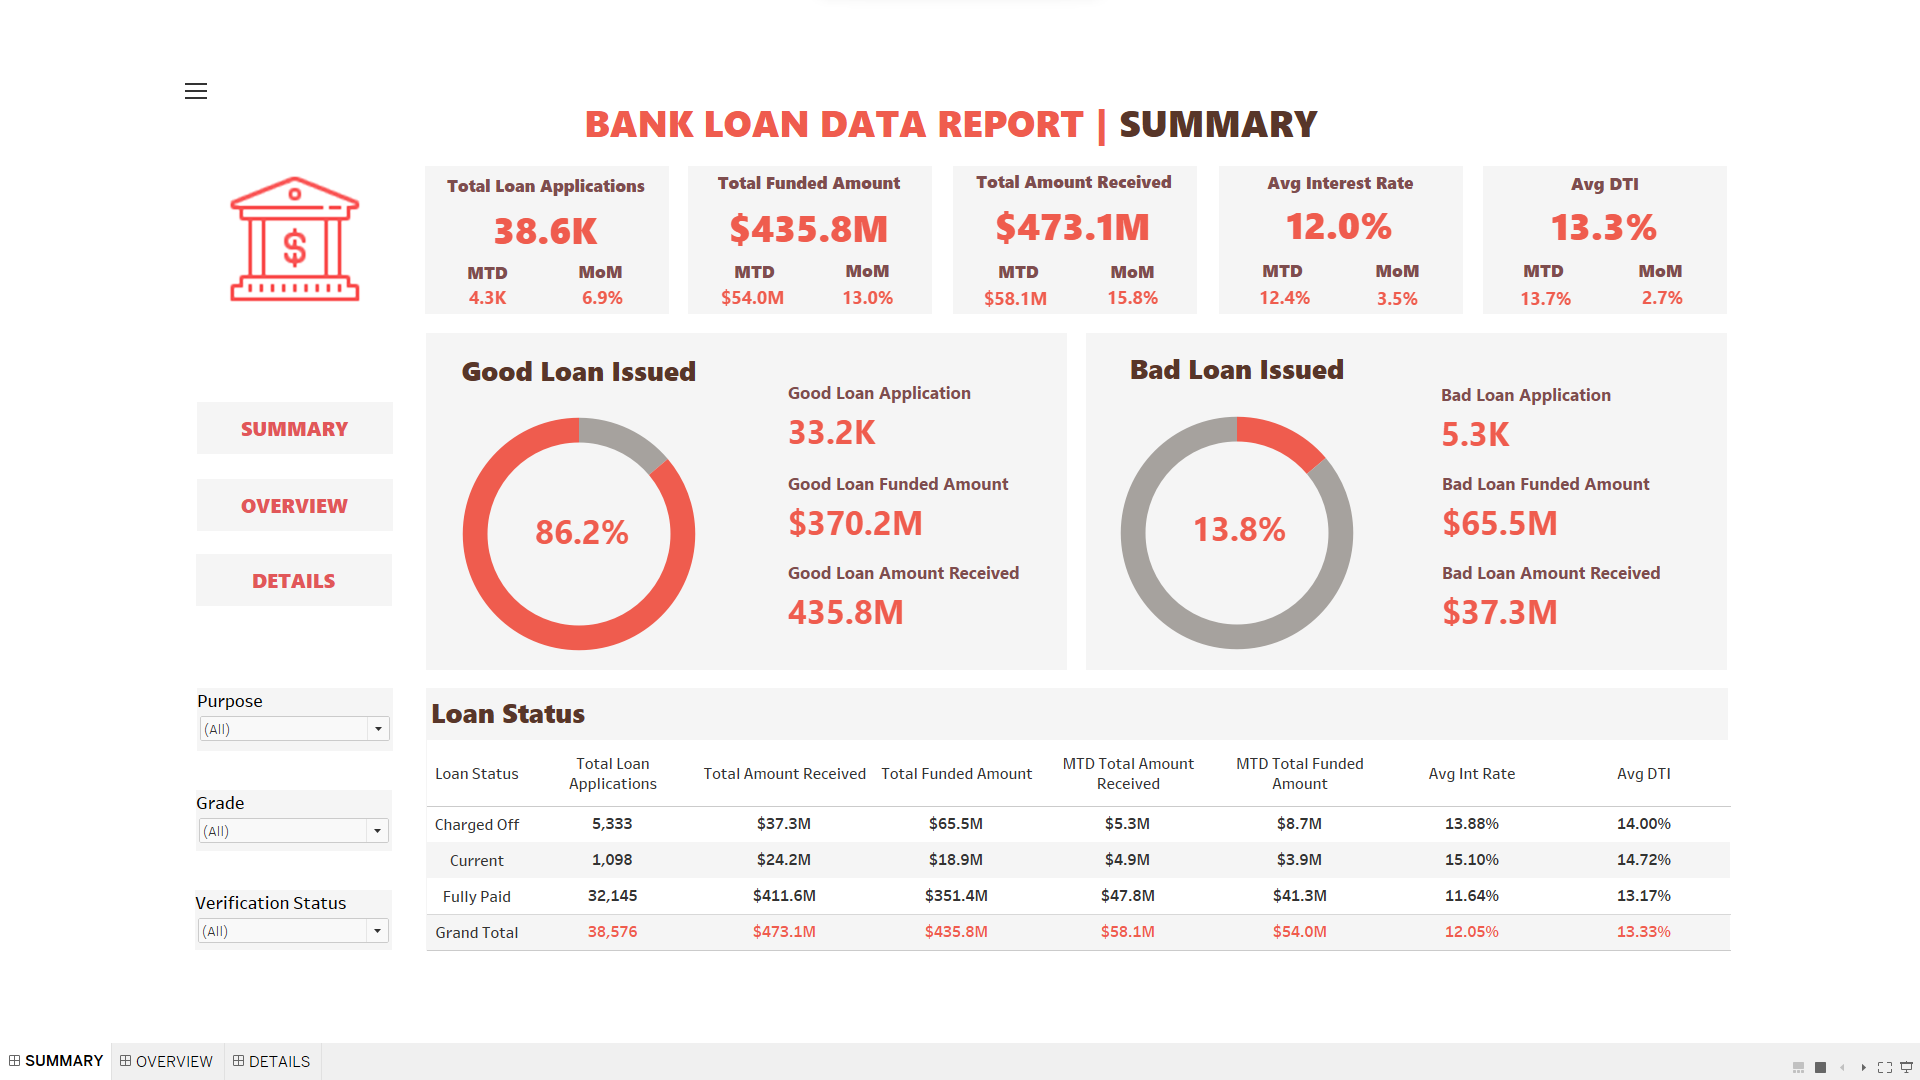

The page's visual inventory and layout, read from the dashboard file:
{"tool":"tableau","page":{"name":"SUMMARY","canvas":[1600,900],"ordinal":2},"visuals":[{"type":"dashboard-object","box":[0,8,24,24]},{"type":"dashboard-object","box":[24,8,24,24]},{"type":"text","box":[421,11,810,81]},{"type":"blank","box":[265,95,244,148]},{"type":"blank","box":[528,95,244,148]},{"type":"blank","box":[793,95,244,148]},{"type":"worksheet","title":"Total Amount Received","mark":"Automatic","box":[793,95,242,81]},{"type":"blank","box":[1059,95,244,148]},{"type":"blank","box":[1323,95,244,148]},{"type":"worksheet","title":"Total Funded Amount","mark":"Automatic","box":[527,96,244,83]},{"type":"worksheet","title":"Avg Interest Rate","mark":"Automatic","box":[1060,96,241,78]},{"type":"image","param":"C:/Users/Sylvi/Downloads/icons8bank-building.png","box":[64,97,143,145]},{"type":"worksheet","title":"Avg DTI","mark":"Automatic","box":[1325,97,240,77]},{"type":"worksheet","title":"Total Loan Applications","mark":"Automatic","box":[266,99,240,82]},{"type":"text","box":[675,184,65,30]},{"type":"text","box":[1090,184,65,30]},{"type":"text","box":[1205,184,65,30]},{"type":"text","box":[1351,184,65,30]},{"type":"text","box":[1468,184,65,30]},{"type":"text","box":[408,185,65,30]},{"type":"text","box":[562,185,65,30]},{"type":"text","box":[826,185,65,30]},{"type":"text","box":[940,185,65,30]},{"type":"text","box":[295,186,65,30]},{"type":"worksheet","title":"MoM Total Amount Received","mark":"Automatic","box":[924,205,98,42]},{"type":"worksheet","title":"MTD Avg DTI","mark":"Automatic","box":[1339,205,94,45]},{"type":"worksheet","title":"MTD Avg Int Rate","mark":"Automatic","box":[1084,208,83,37]},{"type":"worksheet","title":"MoM Avg DTI","mark":"Automatic","box":[1467,208,72,36]},{"type":"worksheet","title":"MoM Loan Applications","mark":"Automatic","box":[407,209,73,35]},{"type":"worksheet","title":"MoM Total Funded Amount","mark":"Automatic","box":[663,209,90,34]},{"type":"worksheet","title":"MoM Avg Int Rate","mark":"Automatic","box":[1195,209,86,37]},{"type":"worksheet","title":"MTD Total Amout Received","mark":"Automatic","box":[809,210,94,35]},{"type":"worksheet","title":"MTD Total Loan Applications","mark":"Automatic","box":[282,211,92,30]},{"type":"worksheet","title":"MTD Total Funded Amount","mark":"Automatic","box":[554,211,79,31]},{"type":"blank","box":[266,262,641,337]},{"type":"blank","box":[926,262,641,337]},{"type":"worksheet","title":"Bad Loan Issued","mark":"Pie","rows":["Calculation_1340102406594928662","Calculation_1340102406594928662"],"box":[927,275,300,323]},{"type":"worksheet","title":"Good Loan Issued","mark":"Pie","rows":["Calculation_1340102406594928662","Calculation_1340102406594928662"],"box":[269,277,300,321]},{"type":"worksheet","title":"Good Loan Application","mark":"Automatic","box":[620,302,250,77]},{"type":"worksheet","title":"Bad Loan Application","mark":"Automatic","box":[1273,304,250,77]},{"type":"dashboard-object","box":[37,331,196,52]},{"type":"worksheet","title":"Good Loan Funded Amount","mark":"Automatic","box":[620,393,250,77]},{"type":"worksheet","title":"Bad Loan Funded Amount","mark":"Automatic","box":[1274,393,250,77]},{"type":"dashboard-object","box":[37,408,196,52]},{"type":"worksheet","title":"Bad Loan Application %","mark":"Automatic","box":[1028,420,102,73]},{"type":"worksheet","title":"Good Loan Application %","mark":"Automatic","box":[354,431,137,57]},{"type":"worksheet","title":"Good Loan Amount Received","mark":"Automatic","box":[620,482,250,77]},{"type":"worksheet","title":"Bad Loan Amount Received","mark":"Automatic","box":[1274,482,250,77]},{"type":"dashboard-object","box":[36,483,196,52]},{"type":"filter","title":"Good Loan Issued","param":"[federated.0o8ds8i1wbf4nt19vdyb61pz2yw0].[none:purpose:nk]","box":[37,617,196,63]},{"type":"blank","box":[266,617,1302,263]},{"type":"worksheet","title":"Loan Status","mark":"Automatic","rows":["loan_status"],"box":[267,619,1304,261]},{"type":"filter","title":"Good Loan Issued","param":"[federated.0o8ds8i1wbf4nt19vdyb61pz2yw0].[none:grade:nk]","box":[36,719,196,61]},{"type":"filter","title":"Good Loan Issued","param":"[federated.0o8ds8i1wbf4nt19vdyb61pz2yw0].[none:verification_status:nk]","box":[35,819,197,60]}]}

Visuals, with their boxes on the page's 1600x900 design canvas (x1, y1, x2, y2). These are canvas units, not pixel positions in the 1920x1080 screenshot, which may show the page scaled, cropped or inside an application window:
dashboard-object: <bbox>0, 8, 24, 32</bbox>
dashboard-object: <bbox>24, 8, 48, 32</bbox>
text: <bbox>421, 11, 1231, 92</bbox>
blank: <bbox>265, 95, 509, 243</bbox>
blank: <bbox>528, 95, 772, 243</bbox>
blank: <bbox>793, 95, 1037, 243</bbox>
"Total Amount Received" worksheet: <bbox>793, 95, 1035, 176</bbox>
blank: <bbox>1059, 95, 1303, 243</bbox>
blank: <bbox>1323, 95, 1567, 243</bbox>
"Total Funded Amount" worksheet: <bbox>527, 96, 771, 179</bbox>
"Avg Interest Rate" worksheet: <bbox>1060, 96, 1301, 174</bbox>
image: <bbox>64, 97, 207, 242</bbox>
"Avg DTI" worksheet: <bbox>1325, 97, 1565, 174</bbox>
"Total Loan Applications" worksheet: <bbox>266, 99, 506, 181</bbox>
text: <bbox>675, 184, 740, 214</bbox>
text: <bbox>1090, 184, 1155, 214</bbox>
text: <bbox>1205, 184, 1270, 214</bbox>
text: <bbox>1351, 184, 1416, 214</bbox>
text: <bbox>1468, 184, 1533, 214</bbox>
text: <bbox>408, 185, 473, 215</bbox>
text: <bbox>562, 185, 627, 215</bbox>
text: <bbox>826, 185, 891, 215</bbox>
text: <bbox>940, 185, 1005, 215</bbox>
text: <bbox>295, 186, 360, 216</bbox>
"MoM Total Amount Received" worksheet: <bbox>924, 205, 1022, 247</bbox>
"MTD Avg DTI" worksheet: <bbox>1339, 205, 1433, 250</bbox>
"MTD Avg Int Rate" worksheet: <bbox>1084, 208, 1167, 245</bbox>
"MoM Avg DTI" worksheet: <bbox>1467, 208, 1539, 244</bbox>
"MoM Loan Applications" worksheet: <bbox>407, 209, 480, 244</bbox>
"MoM Total Funded Amount" worksheet: <bbox>663, 209, 753, 243</bbox>
"MoM Avg Int Rate" worksheet: <bbox>1195, 209, 1281, 246</bbox>
"MTD Total Amout Received" worksheet: <bbox>809, 210, 903, 245</bbox>
"MTD Total Loan Applications" worksheet: <bbox>282, 211, 374, 241</bbox>
"MTD Total Funded Amount" worksheet: <bbox>554, 211, 633, 242</bbox>
blank: <bbox>266, 262, 907, 599</bbox>
blank: <bbox>926, 262, 1567, 599</bbox>
"Bad Loan Issued" worksheet (Pie marks): <bbox>927, 275, 1227, 598</bbox>
"Good Loan Issued" worksheet (Pie marks): <bbox>269, 277, 569, 598</bbox>
"Good Loan Application" worksheet: <bbox>620, 302, 870, 379</bbox>
"Bad Loan Application" worksheet: <bbox>1273, 304, 1523, 381</bbox>
dashboard-object: <bbox>37, 331, 233, 383</bbox>
"Good Loan Funded Amount" worksheet: <bbox>620, 393, 870, 470</bbox>
"Bad Loan Funded Amount" worksheet: <bbox>1274, 393, 1524, 470</bbox>
dashboard-object: <bbox>37, 408, 233, 460</bbox>
"Bad Loan Application %" worksheet: <bbox>1028, 420, 1130, 493</bbox>
"Good Loan Application %" worksheet: <bbox>354, 431, 491, 488</bbox>
"Good Loan Amount Received" worksheet: <bbox>620, 482, 870, 559</bbox>
"Bad Loan Amount Received" worksheet: <bbox>1274, 482, 1524, 559</bbox>
dashboard-object: <bbox>36, 483, 232, 535</bbox>
"Good Loan Issued" filter: <bbox>37, 617, 233, 680</bbox>
blank: <bbox>266, 617, 1568, 880</bbox>
"Loan Status" worksheet: <bbox>267, 619, 1571, 880</bbox>
"Good Loan Issued" filter: <bbox>36, 719, 232, 780</bbox>
"Good Loan Issued" filter: <bbox>35, 819, 232, 879</bbox>
